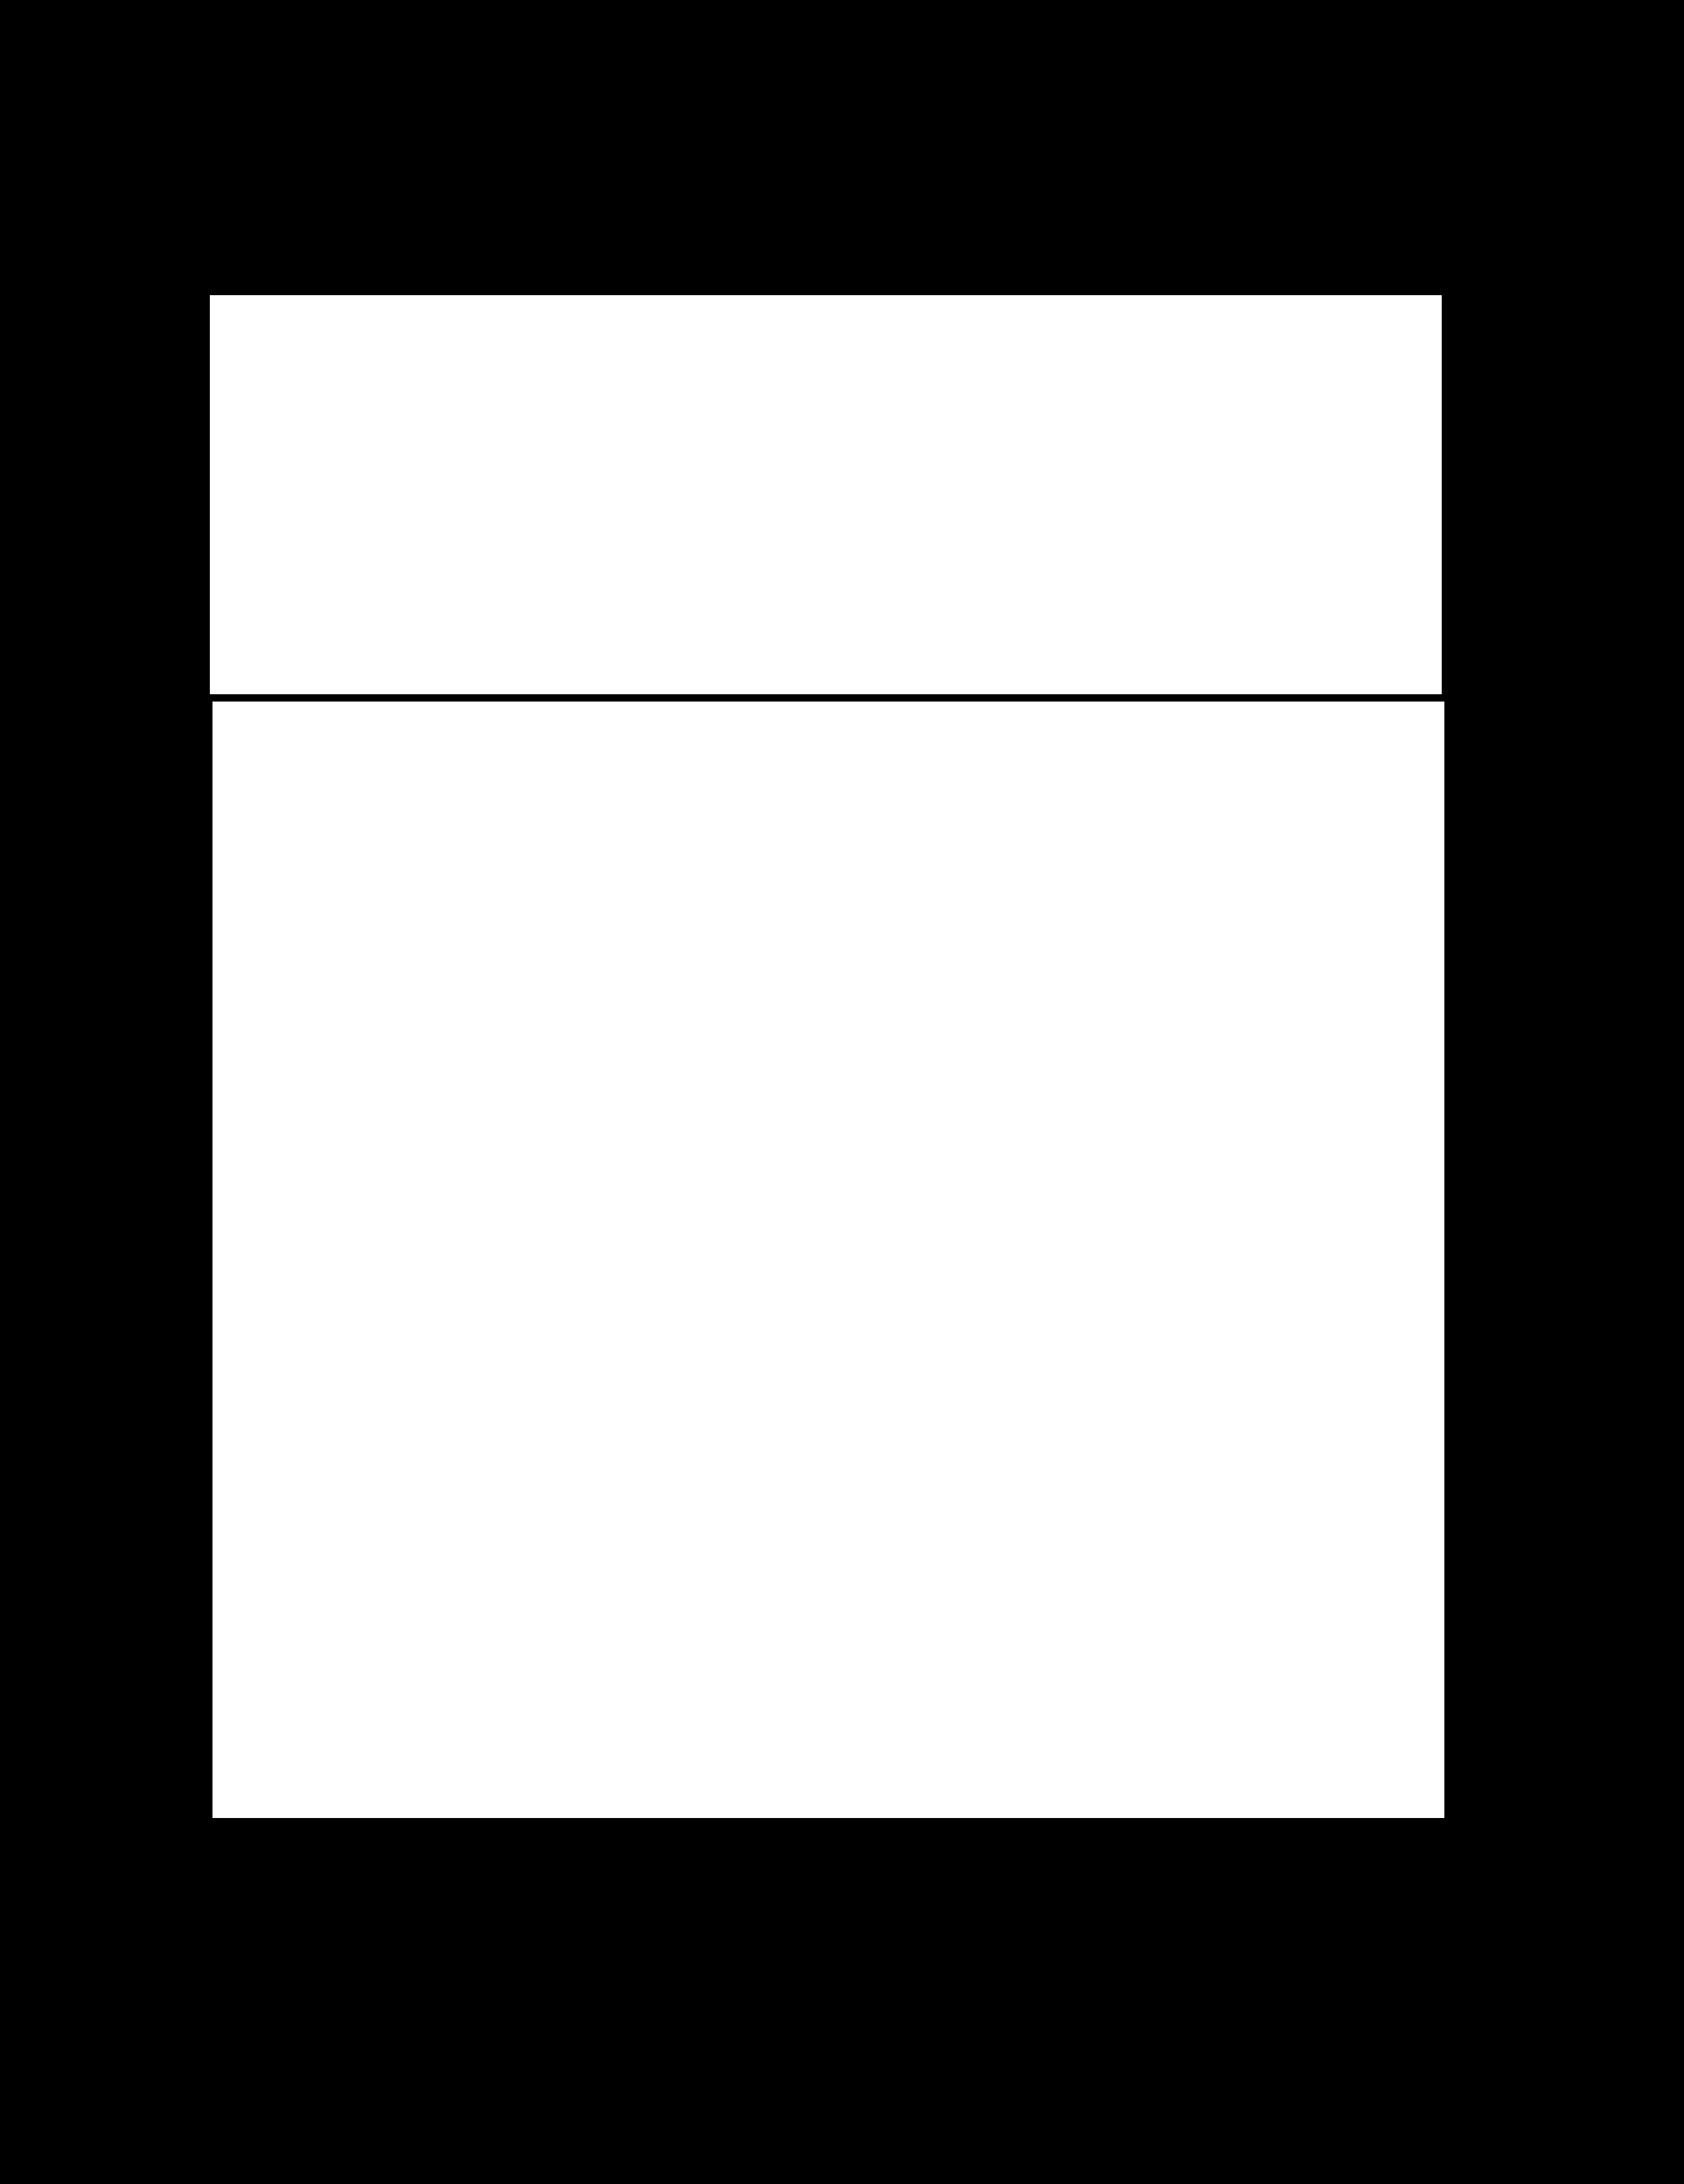table: (212, 702, 1443, 1818), (210, 295, 1442, 693)
